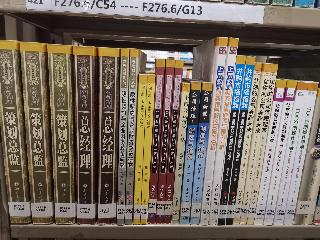book-spine: (18, 40, 56, 226), (206, 37, 239, 226), (0, 38, 32, 224), (214, 53, 248, 226), (223, 55, 256, 226), (281, 80, 319, 227), (198, 36, 227, 227), (46, 42, 76, 225), (272, 81, 308, 227), (263, 80, 298, 228), (240, 63, 271, 227), (247, 63, 278, 227), (232, 62, 263, 225), (253, 78, 286, 227), (71, 46, 98, 225), (96, 47, 119, 225), (144, 57, 167, 226), (179, 81, 202, 226), (190, 82, 213, 227), (164, 59, 184, 225), (156, 59, 174, 225), (123, 47, 139, 226), (114, 48, 130, 226), (170, 83, 190, 225), (137, 74, 155, 227), (132, 75, 147, 225)
